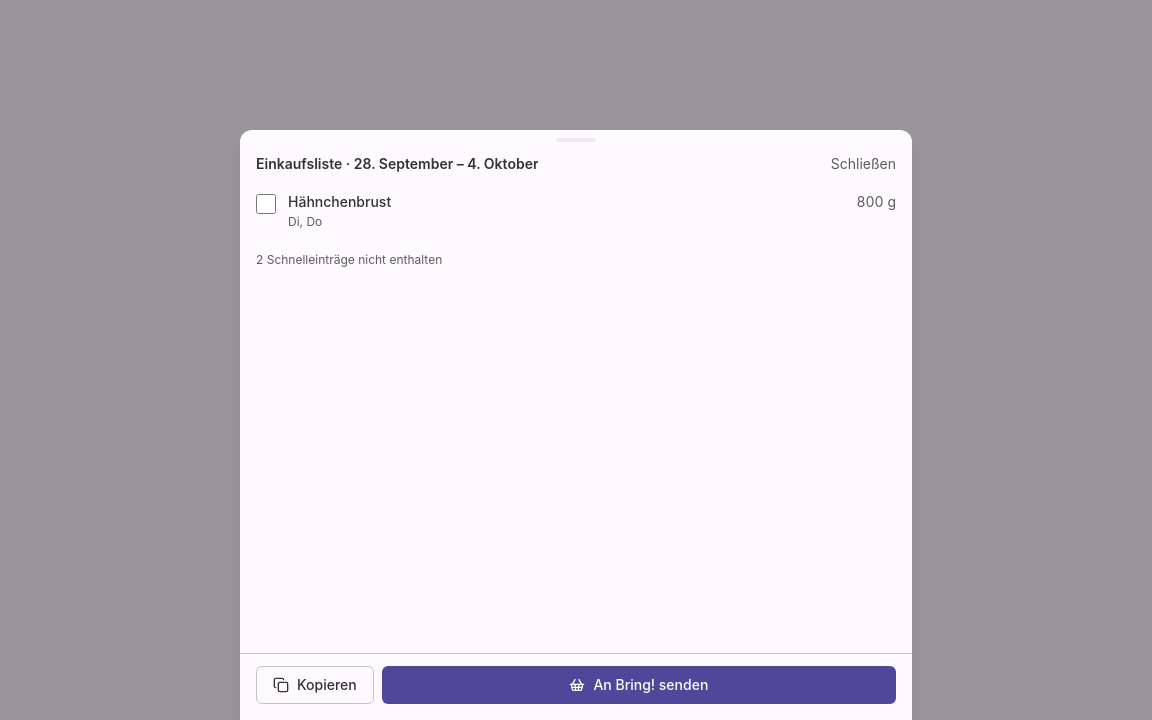
Scenario: GroceryListSheet › disables Kopieren when everything is ticked off
Click the checkbox named "Hähnchenbrust schon da" at (266, 204), box [256,194,276,214]
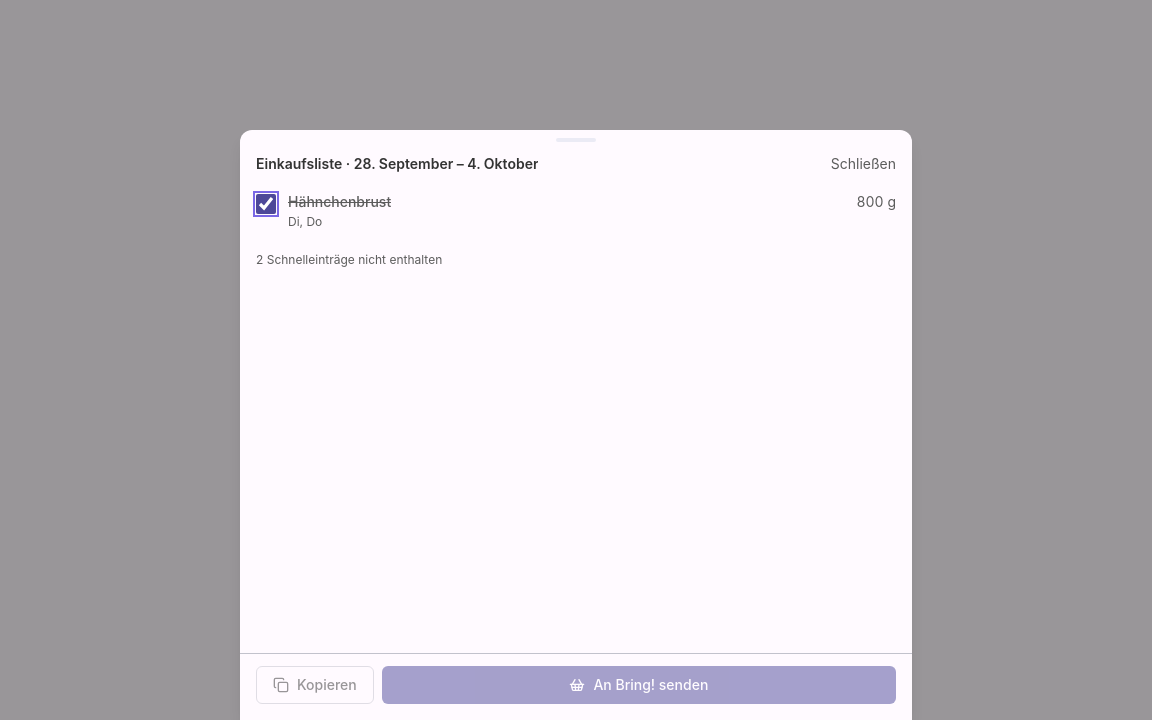
Now the button "Kopieren" is disabled, box [256,666,374,704]
